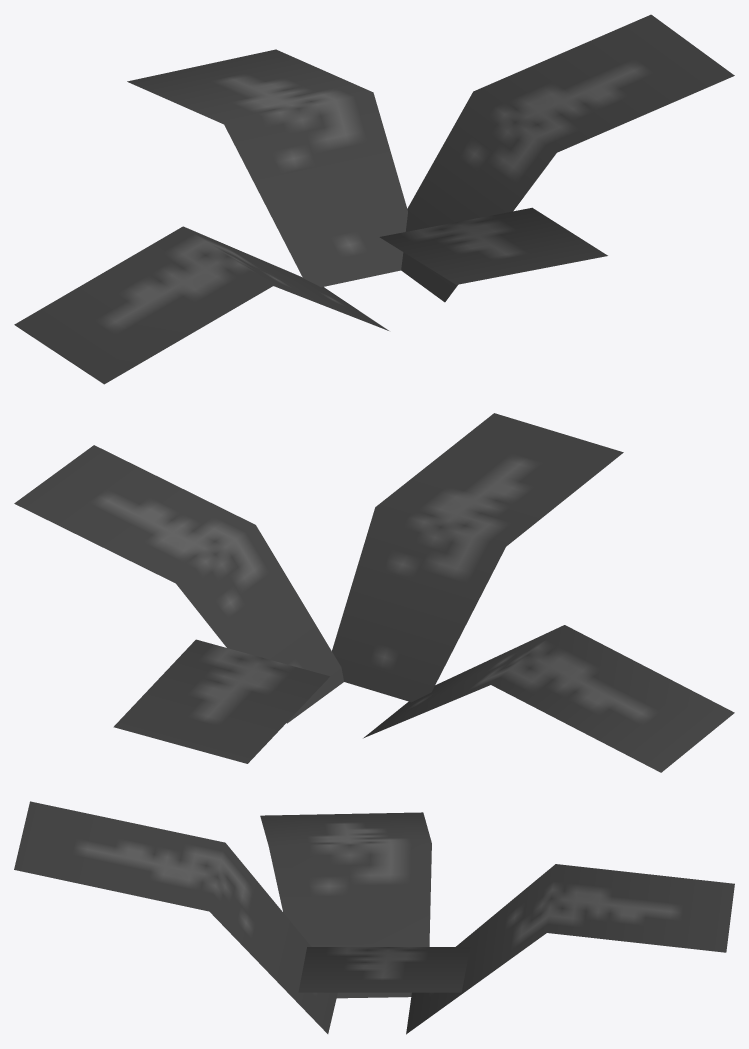
3 renders of one model, top to bottom at view 1: azimuth 30°, elevation 25°; view 2: azimuth 150°, elevation 25°; view 3: azimuth 270°, elevation 25°, orthographic. The views are drawn at different scales.
Parts seen in each view (by area): view 1: root; view 2: root; view 3: root.
Part boxes in pixels (box(x1,y1,x2,y2)): root: box(14, 14, 734, 384); root: box(14, 413, 734, 772); root: box(14, 801, 734, 1034).
Size of the model in its own units: 1.17 by 0.2949 by 1.14.
Materials: 1 (1 with a texture image).
